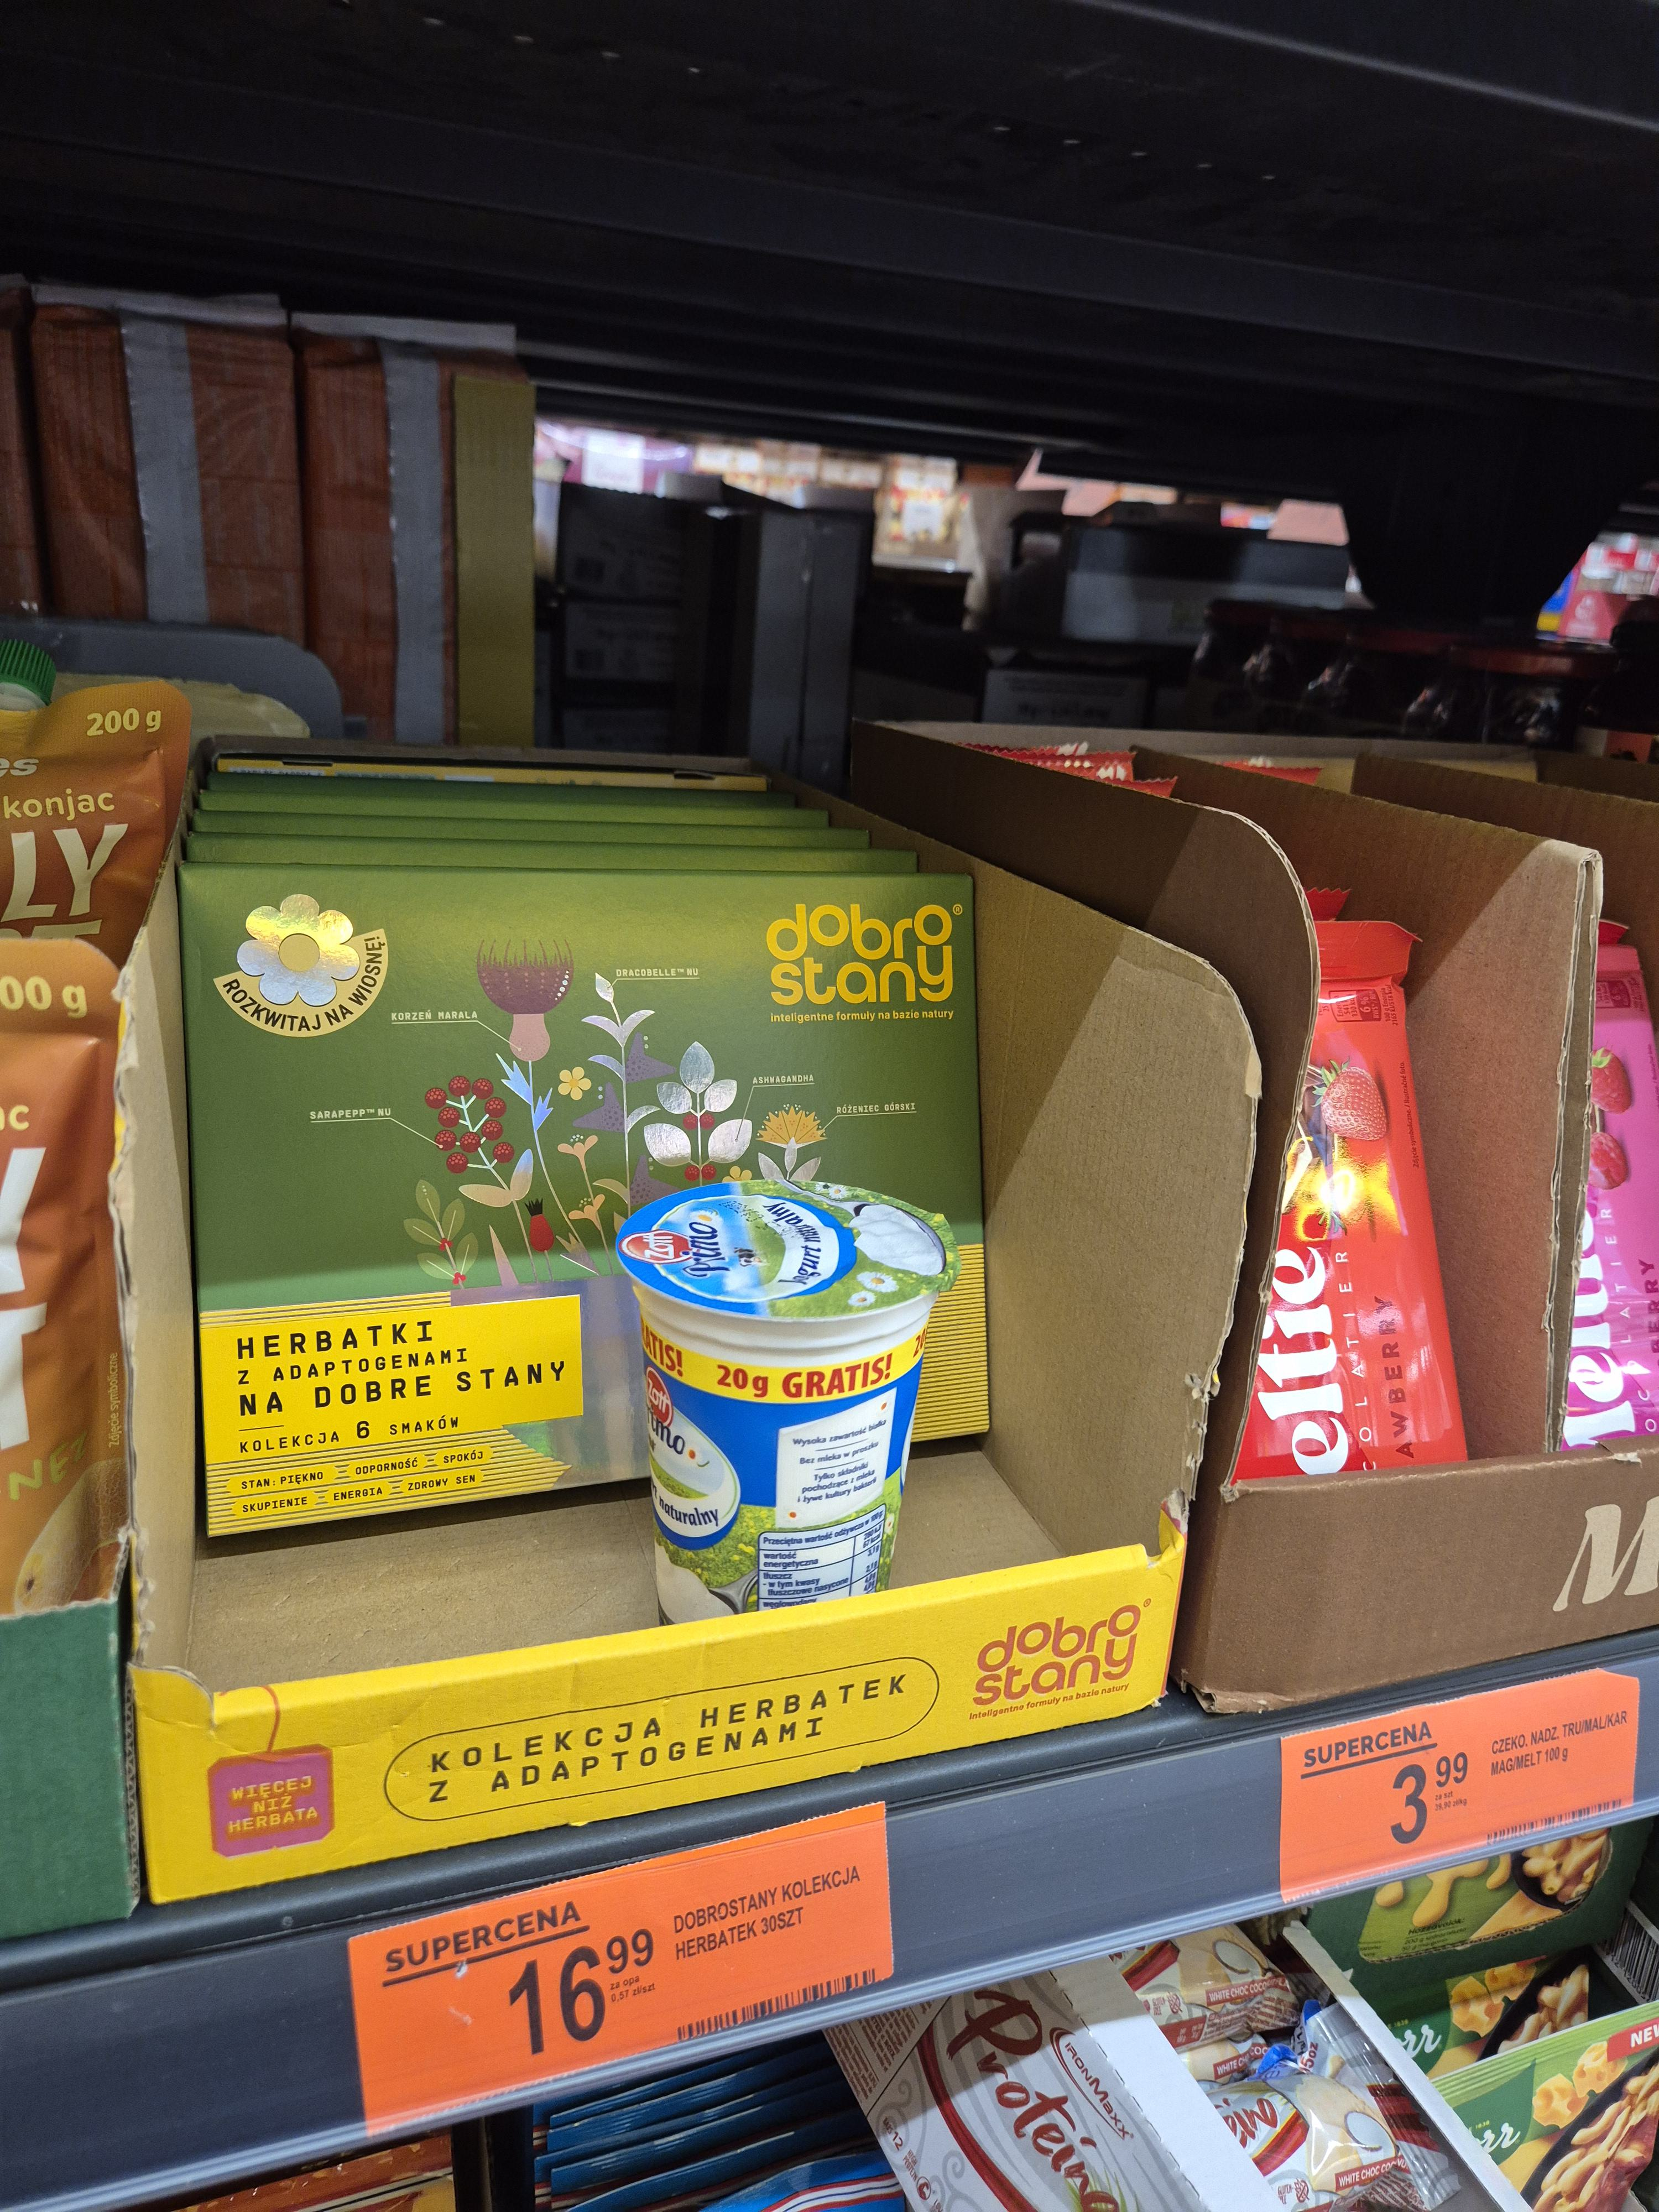Yogurt: (624, 1163, 943, 1632)
